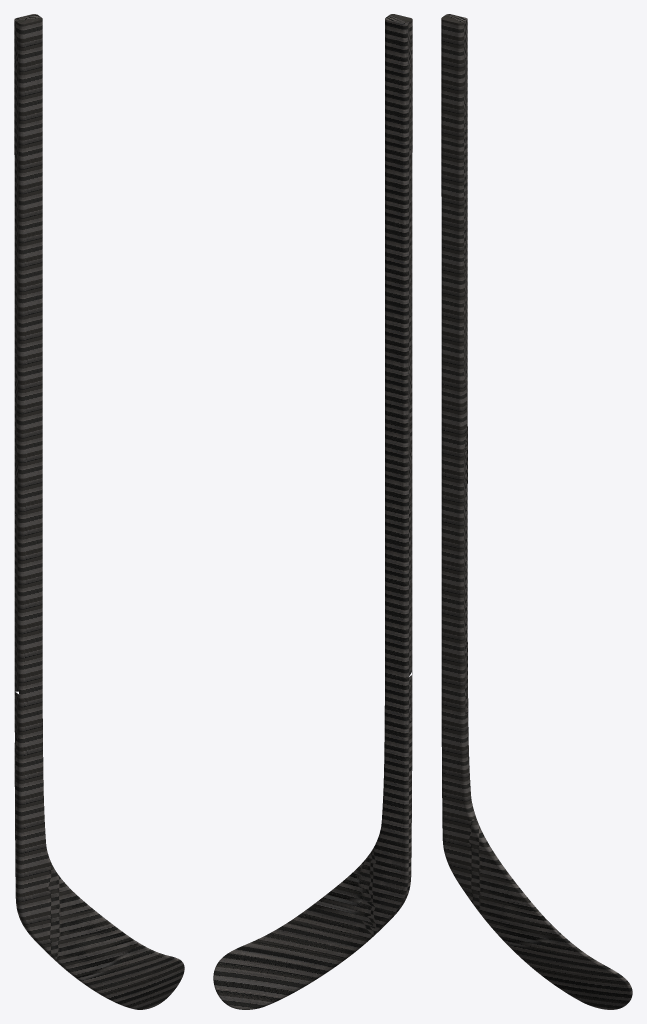
3 views of the same model, side by side, from view 1: azimuth 30°, elevation 25°; view 2: azimuth 150°, elevation 25°; view 3: azimuth 330°, elevation 25° (orthographic). The views are drawn at different scales.
Visible parts, largest first — view 1: geometry_0; view 2: geometry_0; view 3: geometry_0.
Boxes of the visible parts, bbox=[...] form: geometry_0: bbox=[14, 14, 184, 1009]; geometry_0: bbox=[213, 14, 412, 1009]; geometry_0: bbox=[441, 14, 632, 1009].
Bounding box in the file's own units: 236 × 1272 × 56.41.
Materials: 1 (1 with a texture image).
